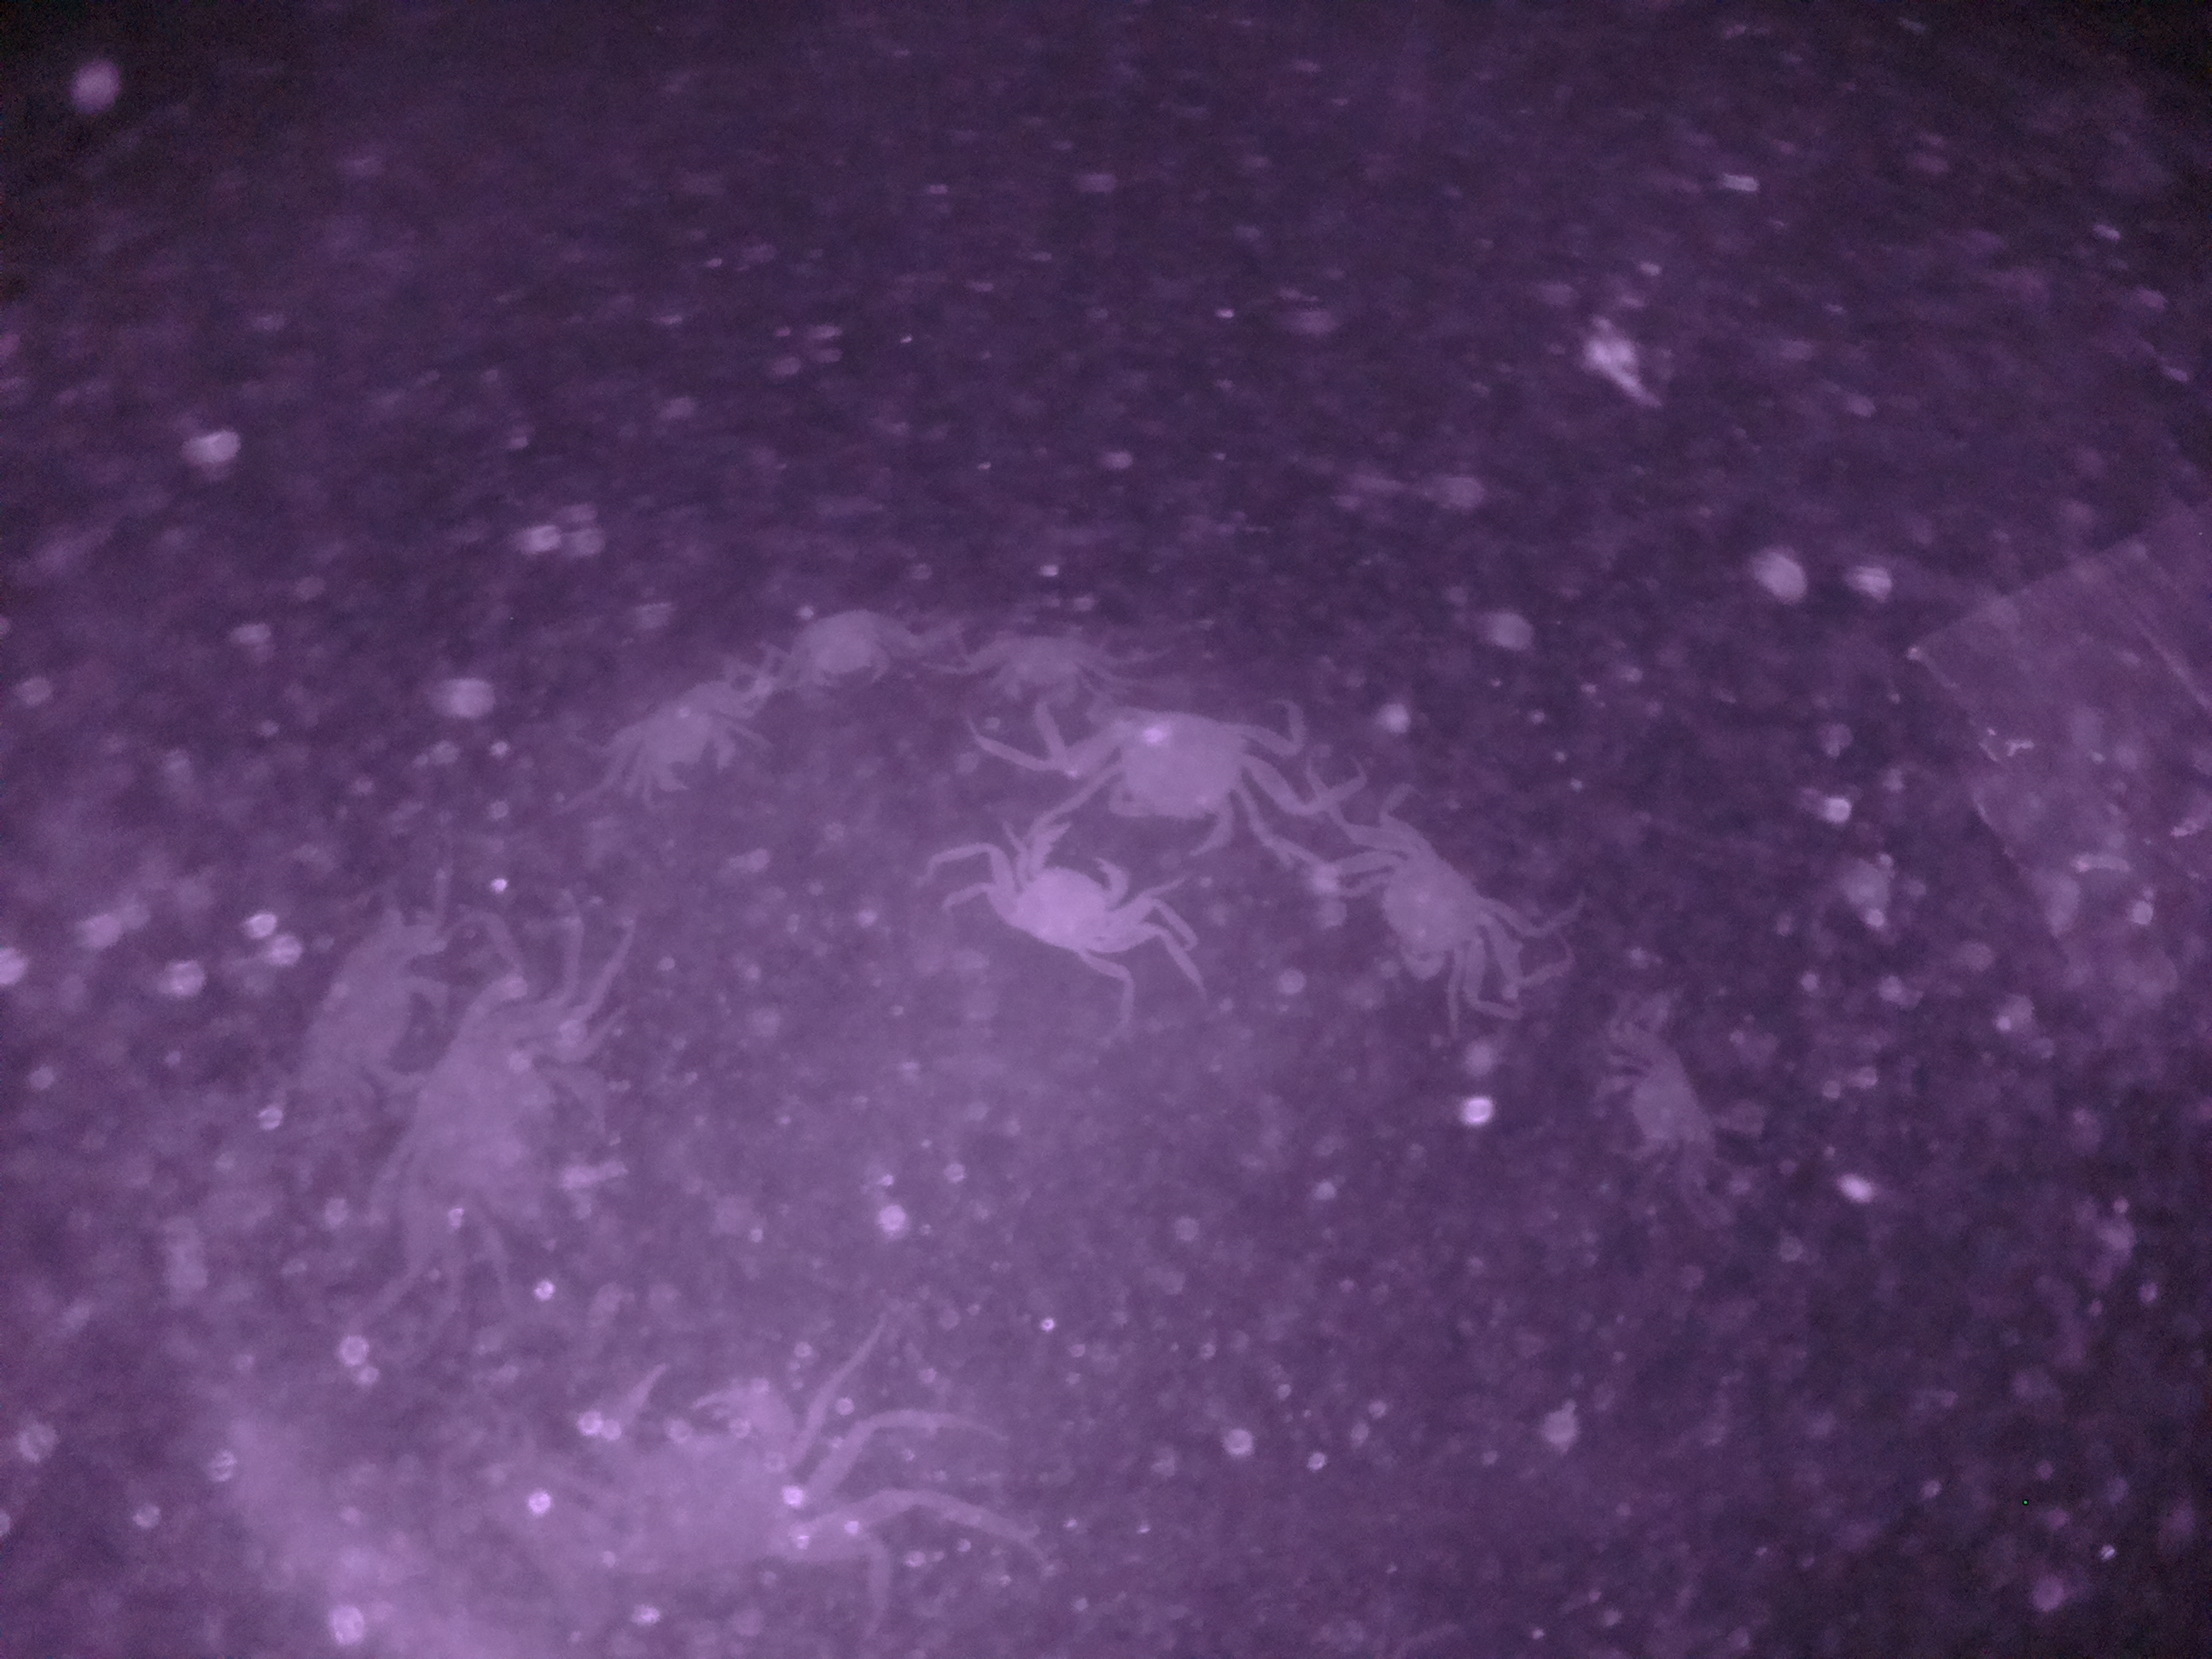Crab: (1343, 788, 1512, 999), (970, 809, 1169, 981), (1082, 692, 1278, 856), (599, 678, 763, 800)
